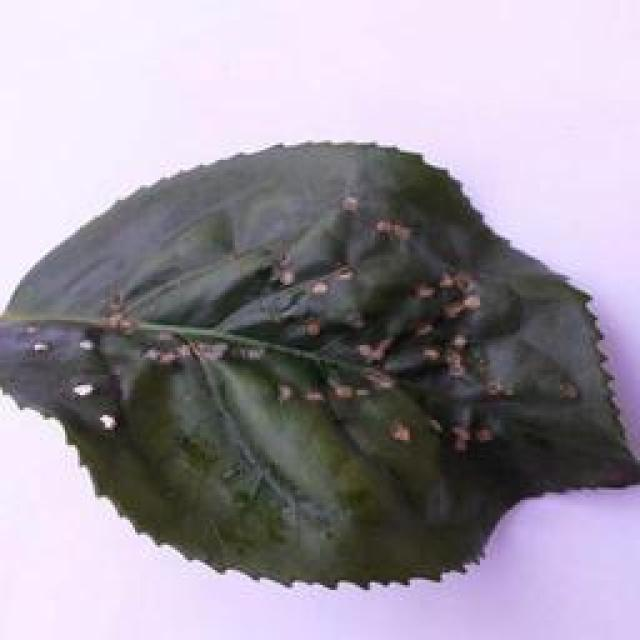Helopeltis: (2, 129, 640, 599)
